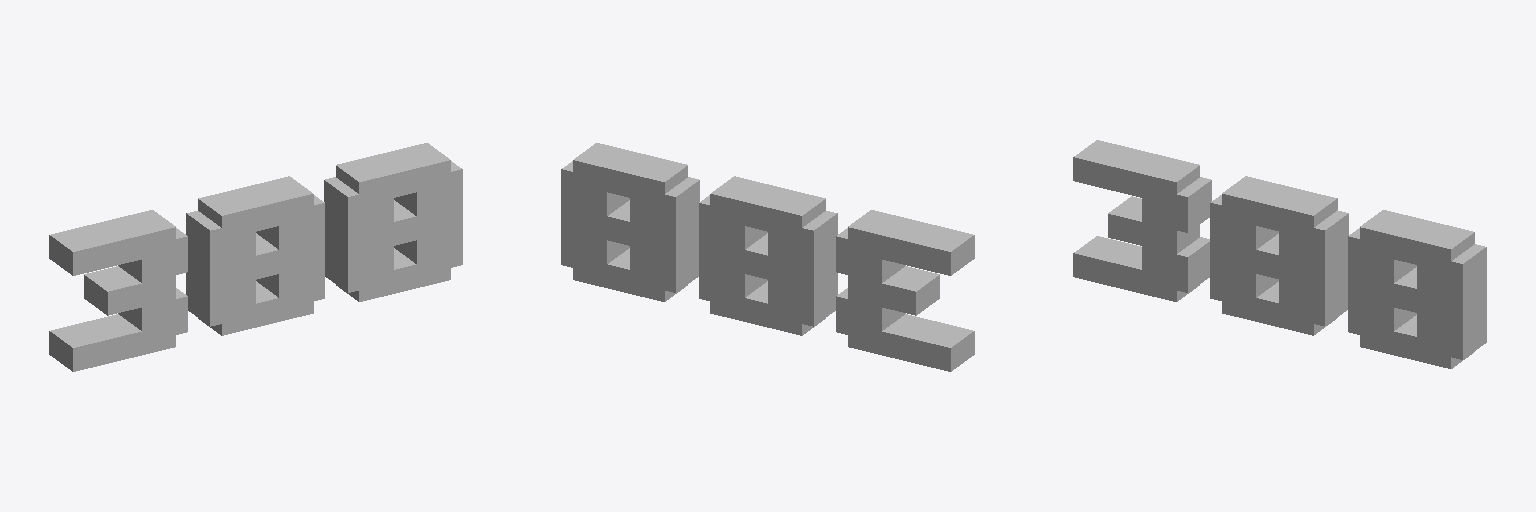
3 views of the same model, side by side, from view 1: azimuth 30°, elevation 25°; view 2: azimuth 150°, elevation 25°; view 3: azimuth 330°, elevation 25° (orthographic).
Visible parts, largest first — view 1: テキスト, テキスト.001, テキスト.002; view 2: テキスト, テキスト.001, テキスト.002; view 3: テキスト, テキスト.001, テキスト.002.
Part boxes in pixels (bbox=[...]): テキスト: bbox=[324, 143, 462, 301]; テキスト.001: bbox=[186, 176, 324, 335]; テキスト.002: bbox=[49, 210, 187, 371]; テキスト: bbox=[561, 143, 699, 301]; テキスト.001: bbox=[699, 176, 837, 335]; テキスト.002: bbox=[836, 210, 974, 371]; テキスト: bbox=[1348, 210, 1486, 368]; テキスト.001: bbox=[1210, 176, 1348, 335]; テキスト.002: bbox=[1073, 140, 1211, 301].
Bounding box in the file's own units: 2.83 × 0.8333 × 0.3.